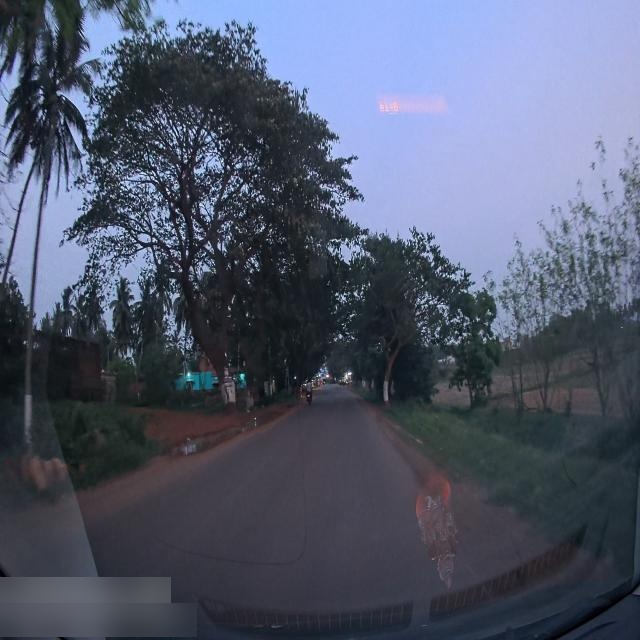pothole: (171, 417, 259, 453)
